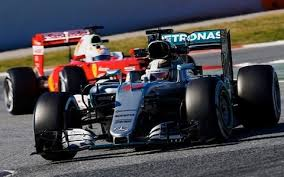f1_car: (31, 24, 284, 169), (1, 23, 167, 117)
